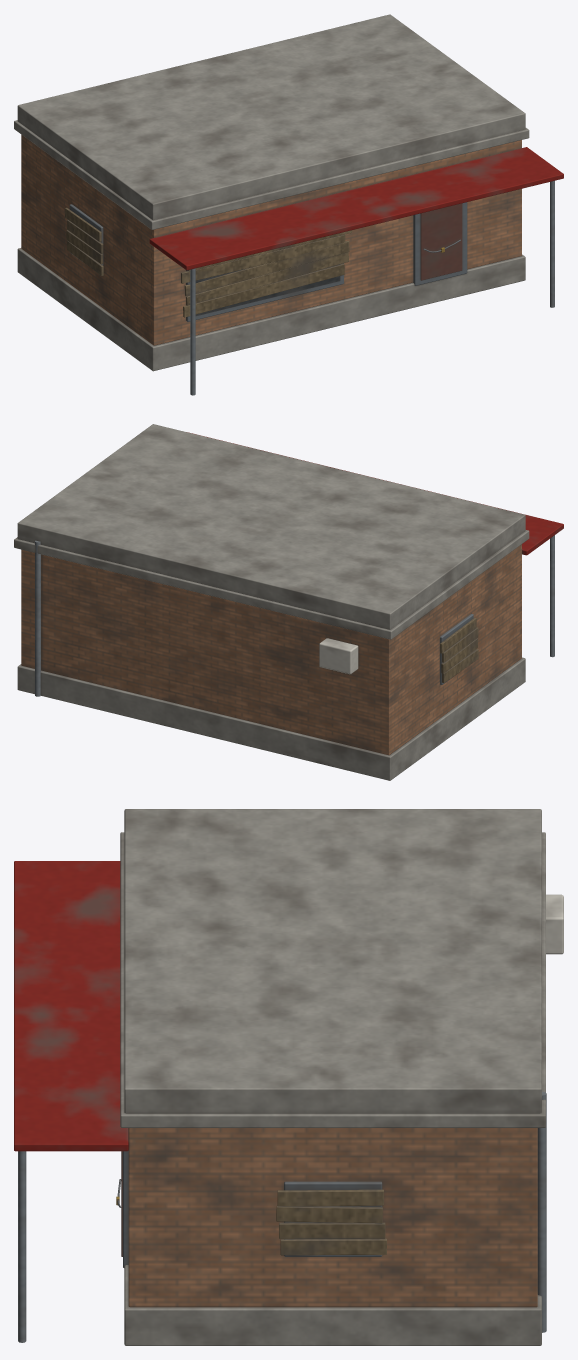
Rendered from stacja_kiosk.glb.
3 views of the same model, one above another, from view 1: azimuth 30°, elevation 25°; view 2: azimuth 150°, elevation 25°; view 3: azimuth 270°, elevation 25° (orthographic). The views are drawn at different scales.
Parts seen in each view (by area): view 1: Kiosk; view 2: Kiosk; view 3: Kiosk.
Boxes of the visible parts, <box> form: Kiosk: <box>14,14,563,395</box>; Kiosk: <box>14,424,563,780</box>; Kiosk: <box>14,809,563,1345</box>.
Bounding box in the file's own units: 8.2 × 3.47 × 6.72.
1 material, 1 textured.
